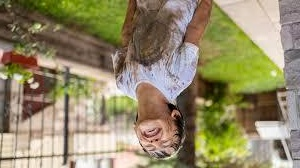earth: (133, 10, 170, 62), (116, 59, 124, 79)
